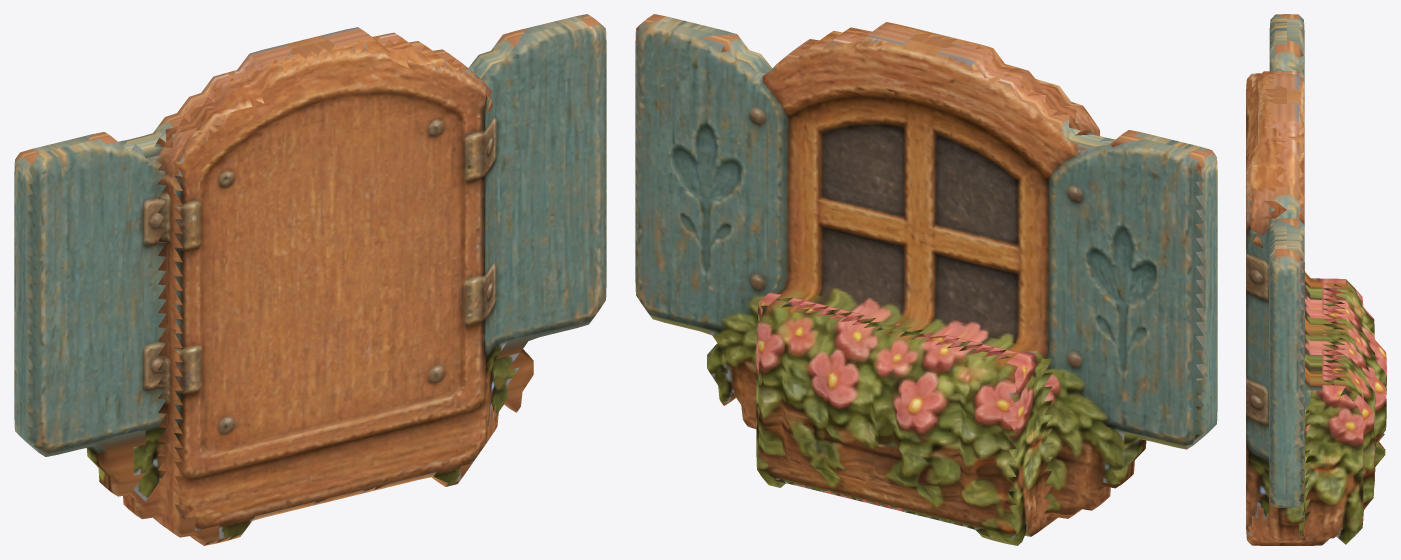
File: house-window-flowers.glb
The picture shows the model from 3 angles, left to right: view 1: azimuth 30°, elevation 25°; view 2: azimuth 150°, elevation 25°; view 3: azimuth 270°, elevation 25°; orthographic projection. The views are drawn at different scales.
Bounding box in the file's own units: 1.33 × 1 × 0.3223.
Materials: 1 (1 with a texture image).
